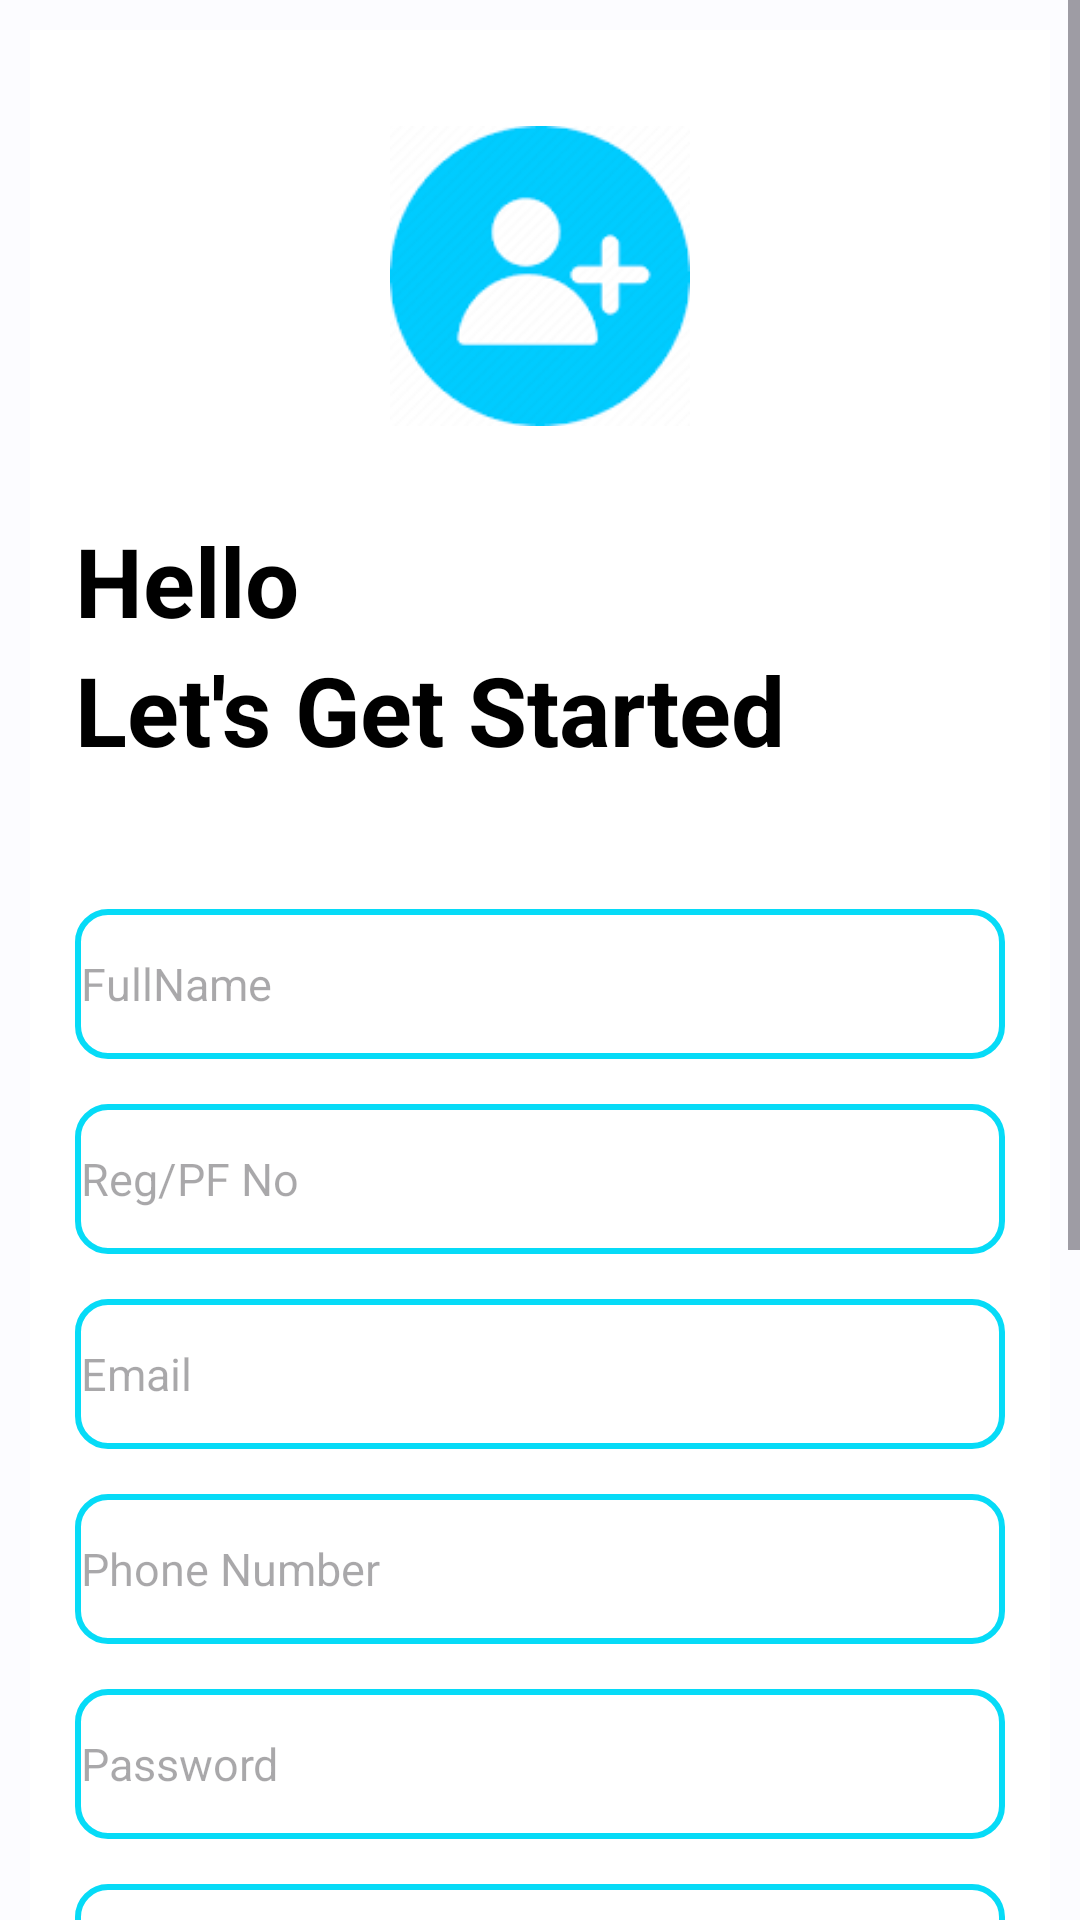

Point at icon controls on the screen. Image size 1080×1920, points as [x,y].
register: [540,276]
